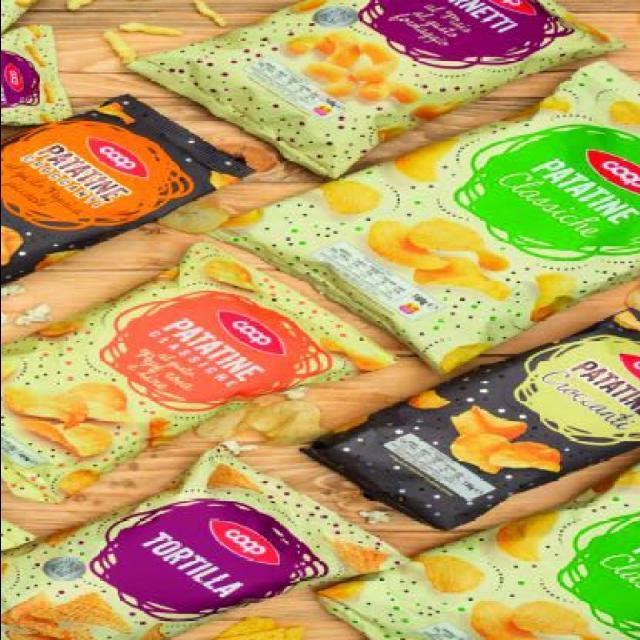Chips: (222, 58, 640, 387), (1, 240, 397, 497), (136, 2, 618, 186), (1, 459, 405, 638), (323, 319, 640, 533), (1, 90, 257, 276)
